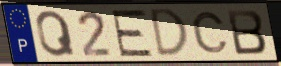2: (75, 9, 114, 58)
B: (225, 8, 269, 56)
C: (190, 10, 230, 55)
D: (149, 7, 190, 59)
E: (109, 8, 155, 58)
Q: (34, 8, 78, 59)
